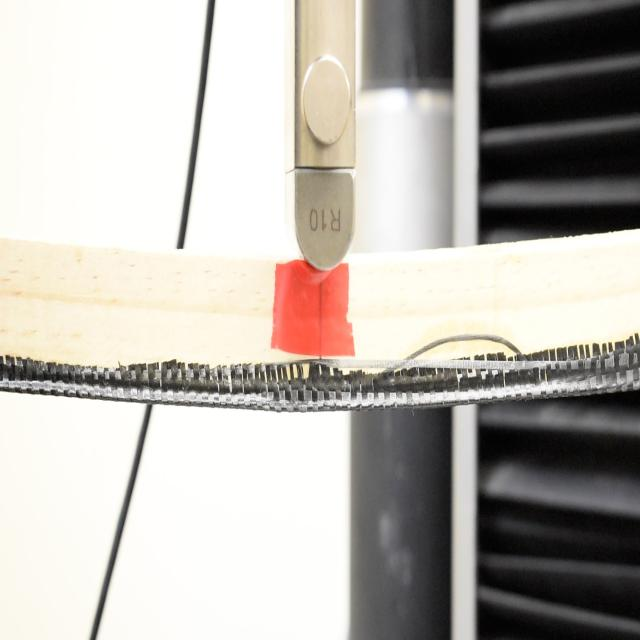wood: (3, 232, 640, 411)
